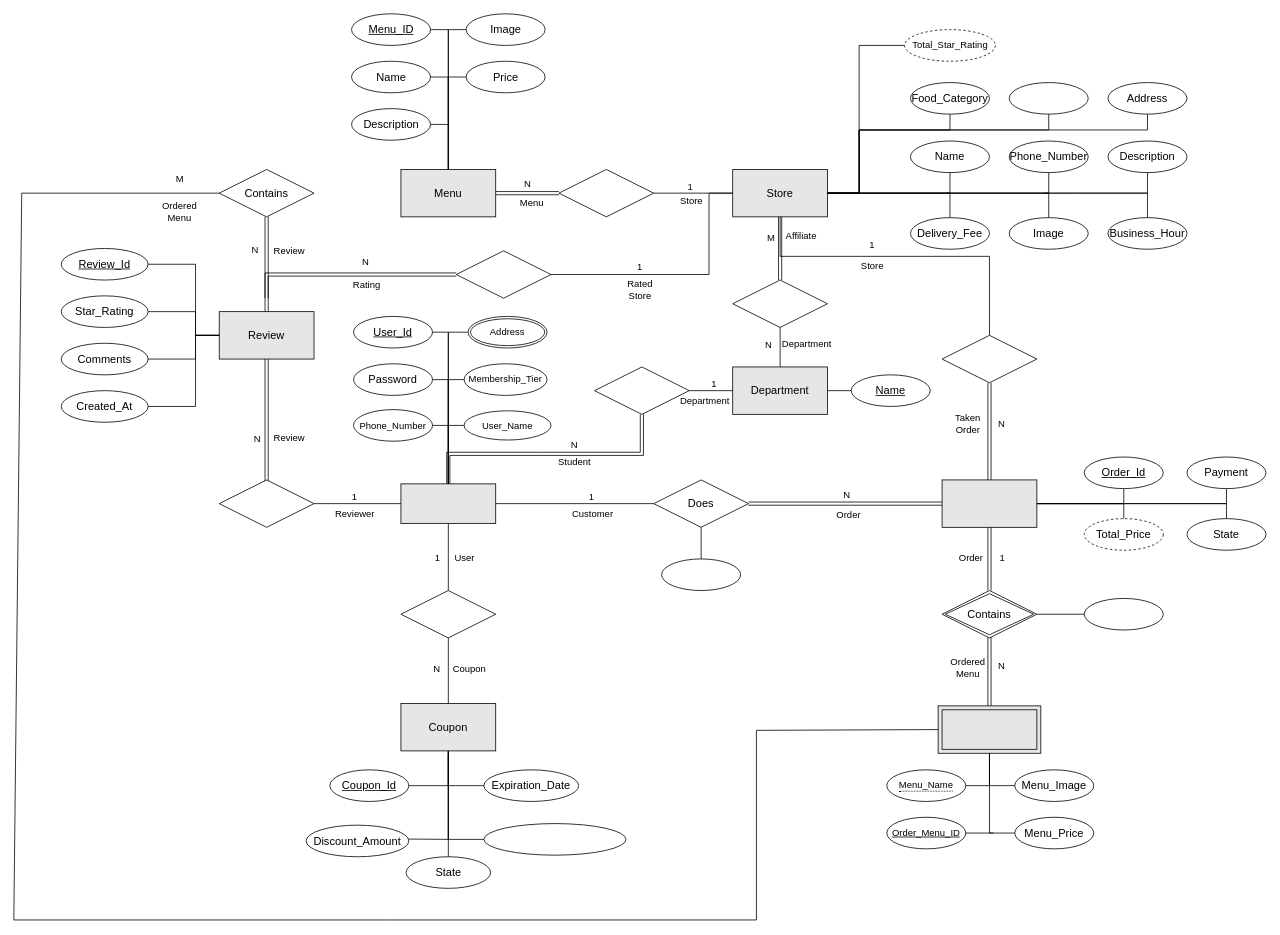
This 1280x935 diagram has some shape labels left out. The shapes that lost their labels are listed below. From the top down, each one's centre as x and y in pixels, then its label:
At point 1048,98: "Store_Id".
At point 606,193: "Sells".
At point 503,274: "Rates".
At point 780,303: "Cooperates".
At point 989,359: "Takes".
At point 641,390: "Belongs".
At point 266,503: "Writes".
At point 448,503: "Users".
At point 989,503: "Orders".
At point 701,574: "Order_Date".
At point 448,614: "Has".
At point 1123,614: "Quantity".
At point 989,729: "Order_Menu".
At point 554,839: "Minimum_Order_Amount".
